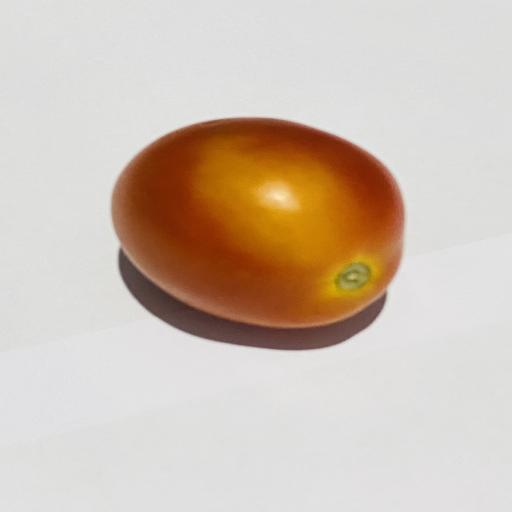ripe: (112, 118, 404, 328)
